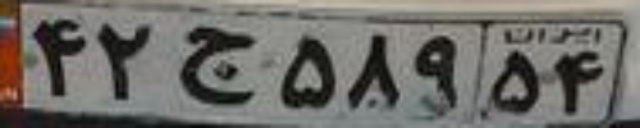2: (95, 22, 157, 98)
4: (32, 19, 87, 97), (549, 51, 603, 114)
5: (271, 35, 337, 108), (486, 49, 541, 113)
8: (347, 33, 403, 109)
9: (413, 35, 458, 110)
jim: (175, 27, 256, 104)
